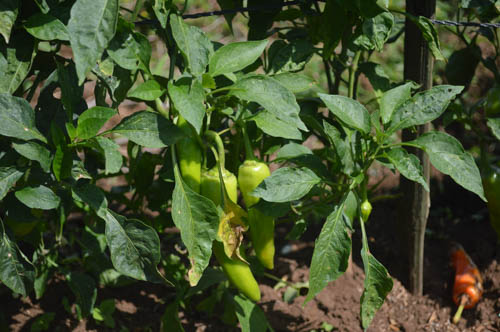ChiliPepper: (206, 175, 259, 298), (242, 166, 277, 270), (175, 115, 201, 195)
